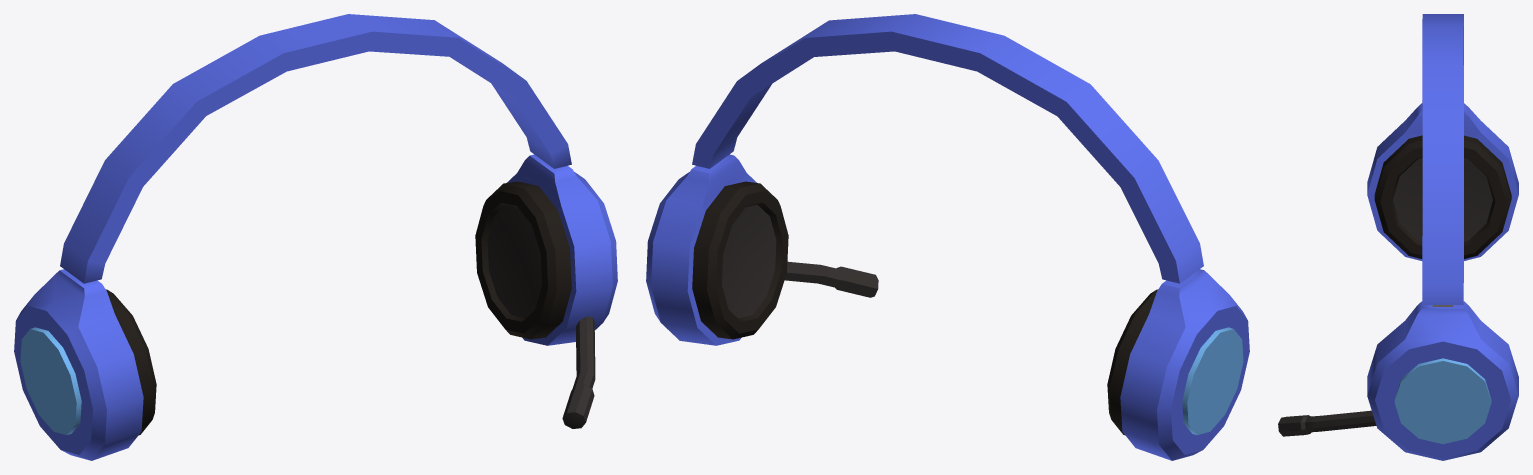
Rendered from Headphones_01_02.fbx.
3 renders of one model, left to right at view 1: azimuth 30°, elevation 25°; view 2: azimuth 150°, elevation 25°; view 3: azimuth 270°, elevation 25°, orthographic. The views are drawn at different scales.
Visible parts, largest first — view 1: Headphones_01_02; view 2: Headphones_01_02; view 3: Headphones_01_02.
Boxes of the visible parts, box(x1,y1,x2,y2) form: Headphones_01_02: box(14, 14, 617, 460); Headphones_01_02: box(646, 14, 1249, 460); Headphones_01_02: box(1278, 14, 1518, 460).
Size of the model in its own units: 50.61 by 32.9 by 22.45.
